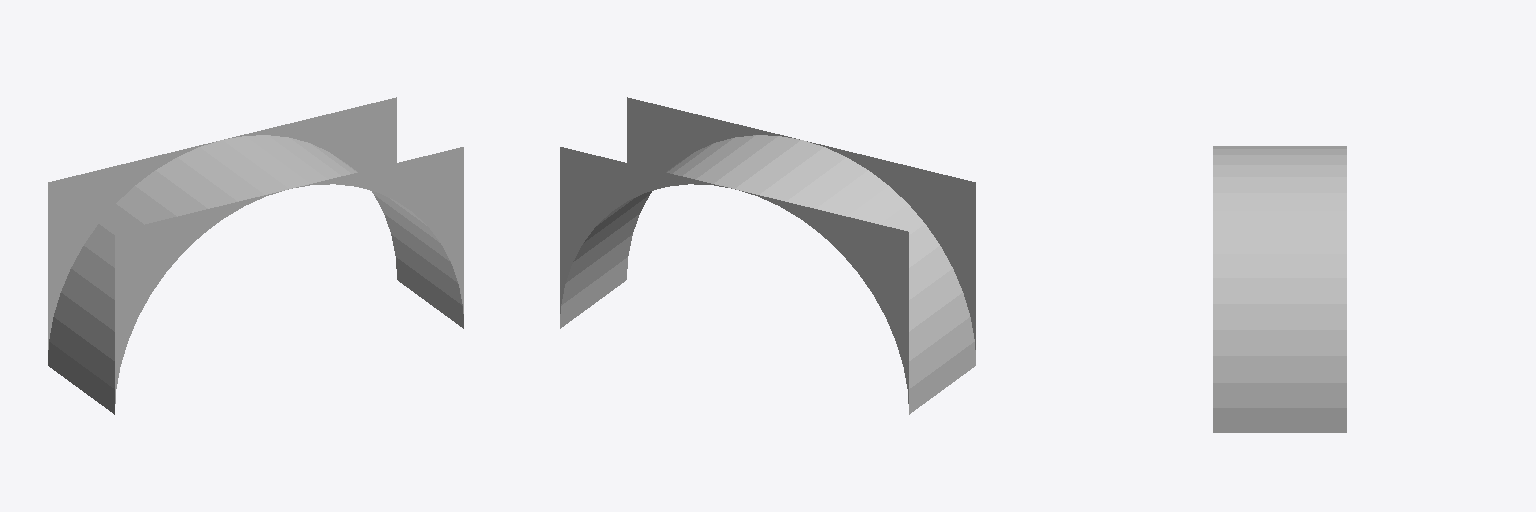
File: MinorAscentTunnelArch2.obj
3 views of the same model, side by side, from view 1: azimuth 30°, elevation 25°; view 2: azimuth 150°, elevation 25°; view 3: azimuth 270°, elevation 25° (orthographic).
Visible parts, largest first — view 1: MinorAscentTunnelArch2; view 2: MinorAscentTunnelArch2; view 3: MinorAscentTunnelArch2.
Part boxes in pixels (left/top/right/bottom): MinorAscentTunnelArch2: left=48, top=97, right=463, bottom=414; MinorAscentTunnelArch2: left=560, top=97, right=975, bottom=414; MinorAscentTunnelArch2: left=1213, top=146, right=1346, bottom=432.
Size of the model in its own units: 6 by 3 by 2.